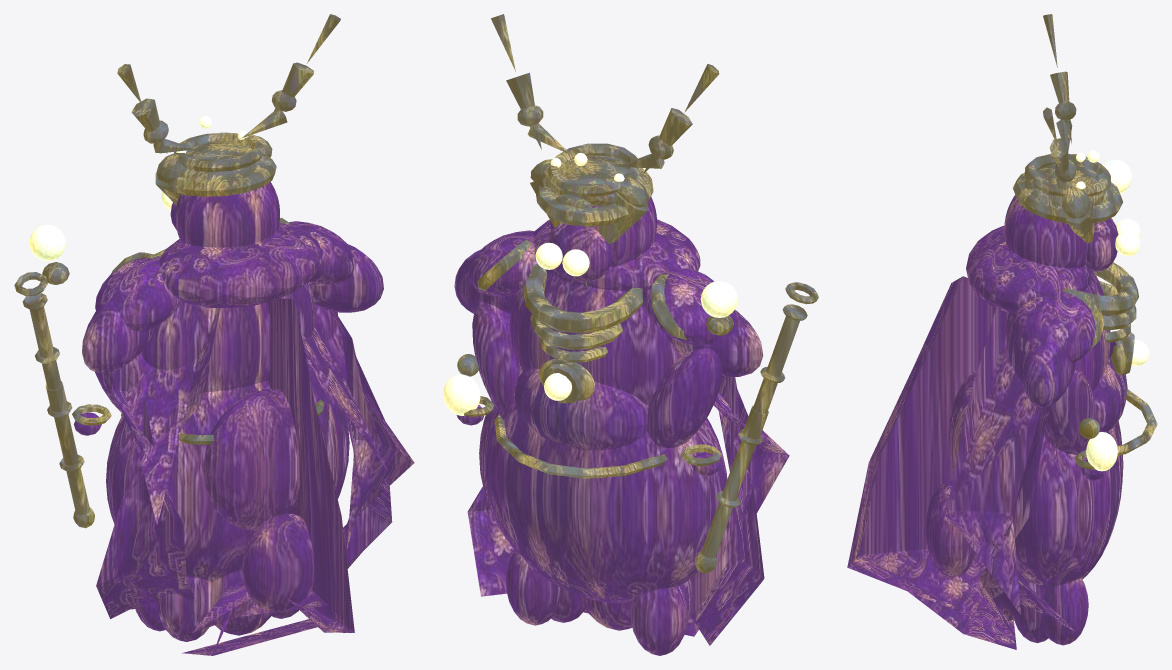
The model's file is ghost_king.glb.
3 views of the same model, side by side, from view 1: azimuth 30°, elevation 25°; view 2: azimuth 150°, elevation 25°; view 3: azimuth 270°, elevation 25° (orthographic). The views are drawn at different scales.
Parts seen in each view (by area): view 1: body, metal, glow; view 2: body, metal, glow; view 3: body, metal, glow.
Part boxes in pixels (<box>): body: <box>74,182,414,655</box>; metal: <box>14,14,340,528</box>; glow: <box>29,116,247,260</box>; body: <box>454,196,789,655</box>; metal: <box>457,14,818,573</box>; glow: <box>443,153,737,415</box>; body: <box>847,195,1127,649</box>; metal: <box>1013,14,1157,469</box>; glow: <box>1076,150,1149,471</box>.
Size of the model in its own units: 1.8 by 2.8 by 1.41.
3 materials, 3 textured.
